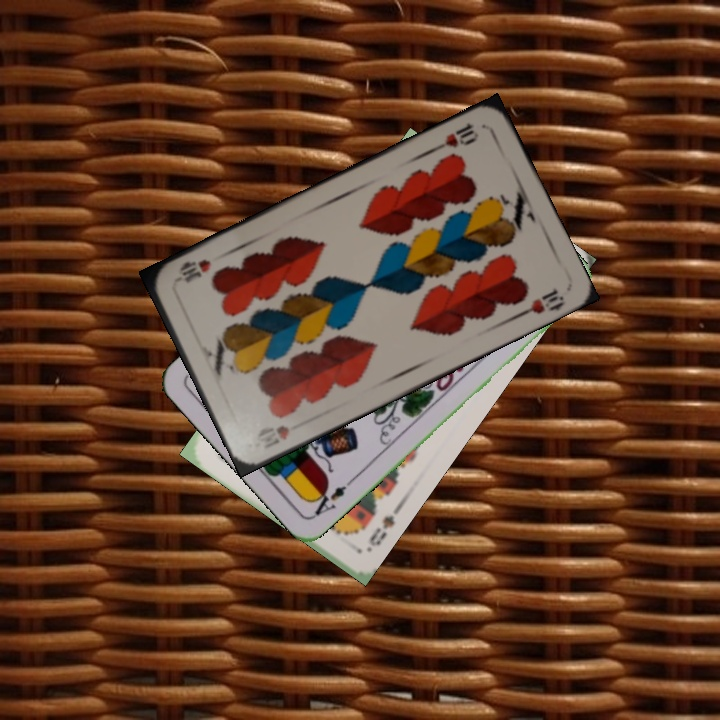EA: (306, 474, 356, 520)
H10: (429, 118, 482, 154), (252, 421, 293, 452)
S8: (365, 510, 398, 549)
